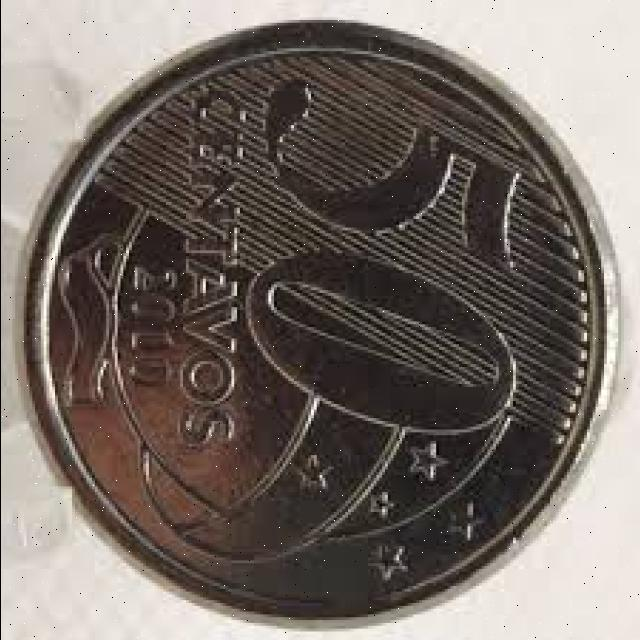50 cent: (29, 19, 619, 632)
